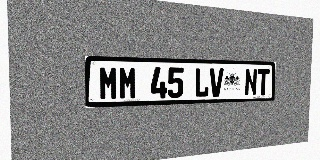4: (151, 67, 167, 99)
5: (168, 67, 184, 98)
L: (194, 68, 209, 97)
M: (99, 66, 118, 100), (119, 66, 137, 100)
N: (244, 69, 257, 96)
T: (257, 69, 270, 95)
V: (209, 68, 224, 97)
